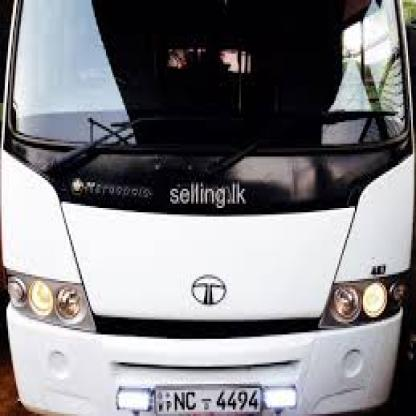bus front: (2, 1, 416, 416)
number plate: (151, 382, 260, 416)
